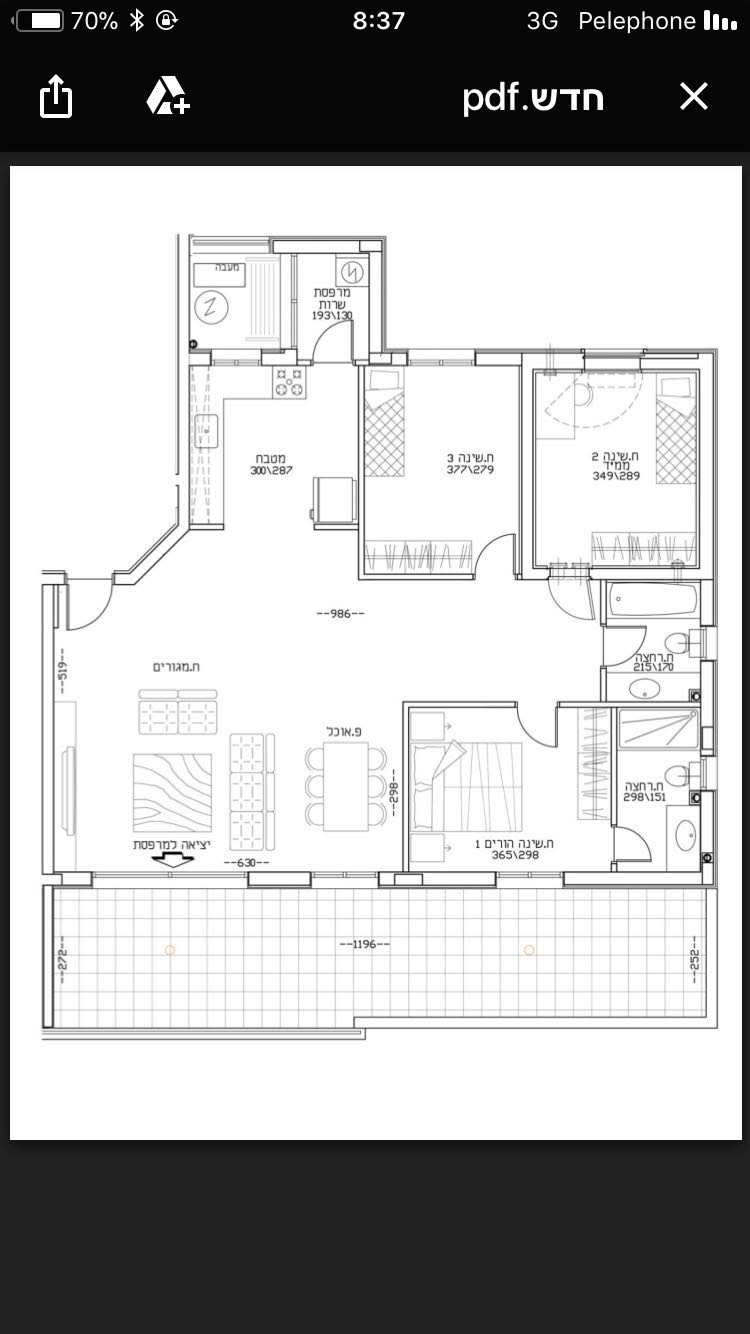door: (62, 591, 118, 649), (318, 305, 360, 355), (508, 719, 568, 753), (472, 527, 516, 571), (616, 623, 655, 664), (621, 823, 657, 864)
window: (91, 869, 250, 880), (406, 357, 476, 375), (495, 866, 565, 882), (310, 867, 381, 881)
